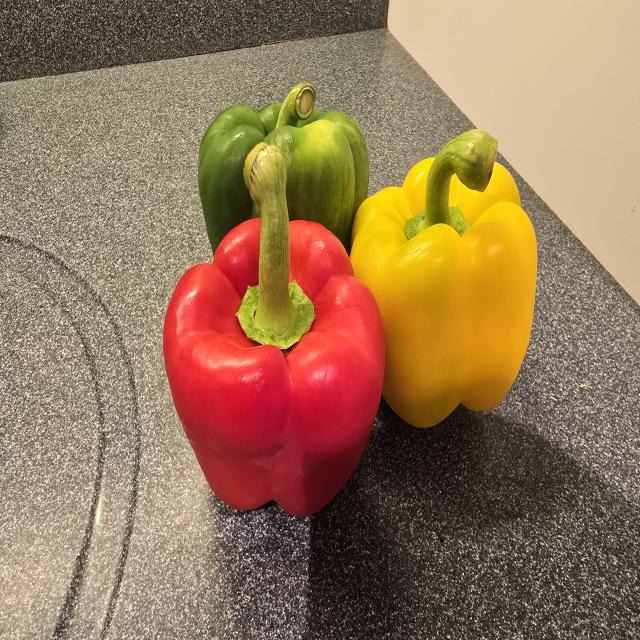Bell Pepper: (164, 142, 384, 515), (350, 132, 537, 428), (198, 84, 368, 245)
